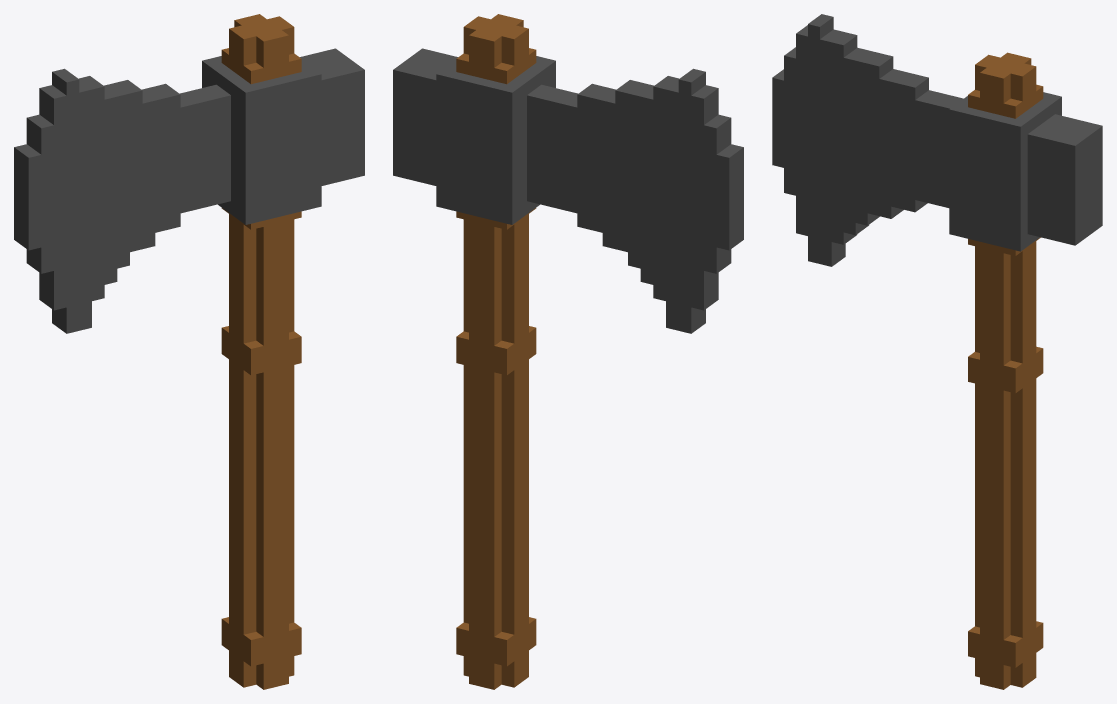
File: Stone Axe.fbx
The picture shows the model from 3 angles, left to right: view 1: azimuth 30°, elevation 25°; view 2: azimuth 150°, elevation 25°; view 3: azimuth 330°, elevation 25°; orthographic projection. The views are drawn at different scales.
Visible parts, largest first — view 1: Stone Axe; view 2: Stone Axe; view 3: Stone Axe.
Part boxes in pixels (x1,y1,x2,y2): Stone Axe: (14,14,364,689); Stone Axe: (393,14,743,689); Stone Axe: (772,14,1102,689).
Bounding box in the file's own units: 0.12 × 0.52 × 0.98.
Materials: 1 (1 with a texture image).
